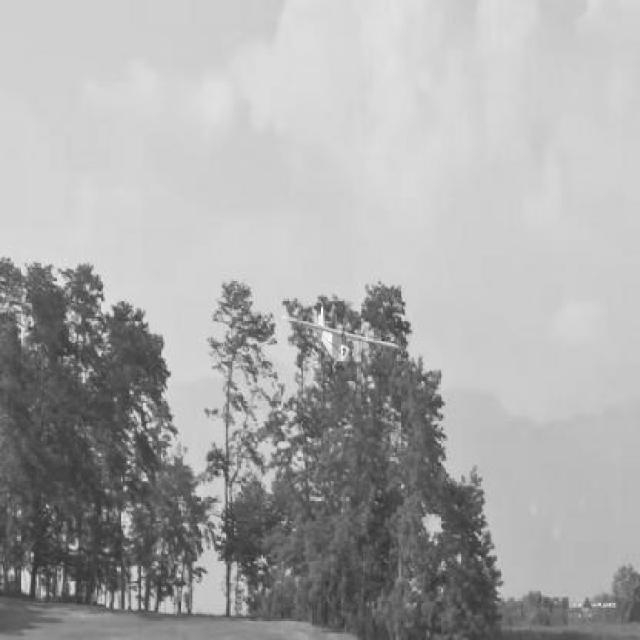iha: (314, 314, 368, 364)
